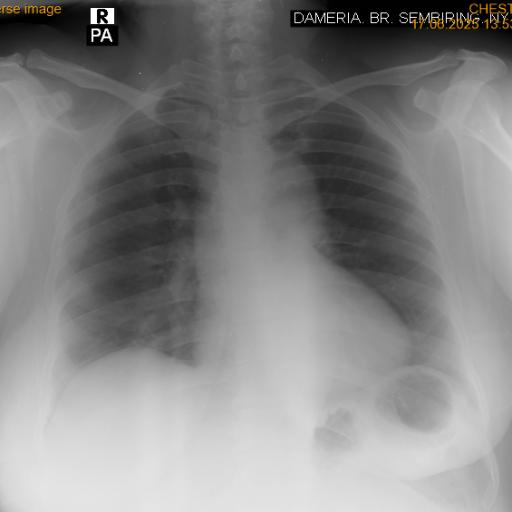kardiomegali: (23, 61, 492, 431)
